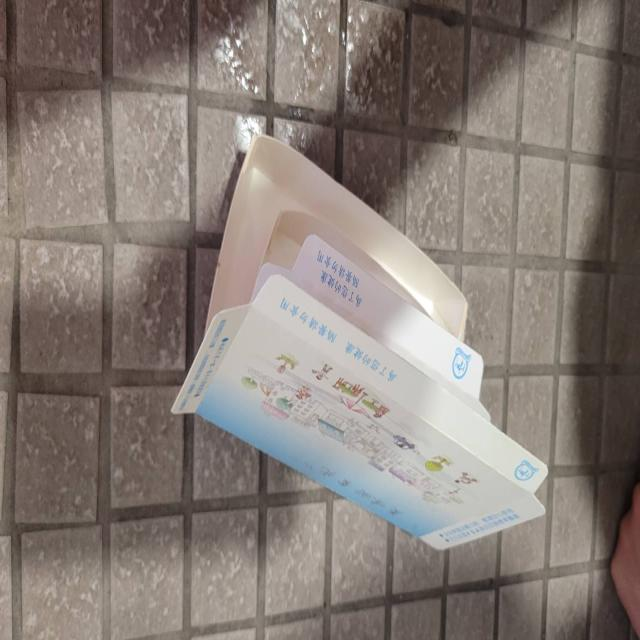Paper bowl: (170, 112, 550, 580)
